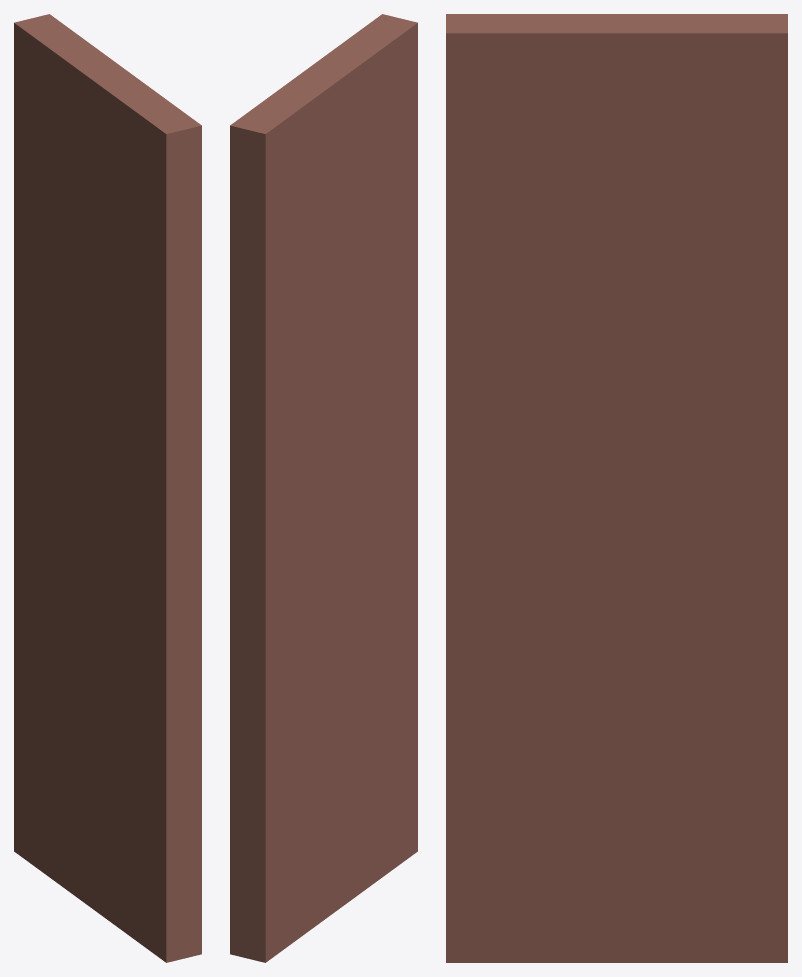
Rendered from T_MurSimple_02.fbx.
The picture shows the model from 3 angles, left to right: view 1: azimuth 30°, elevation 25°; view 2: azimuth 150°, elevation 25°; view 3: azimuth 270°, elevation 25°; orthographic projection. The views are drawn at different scales.
Parts seen in each view (by area): view 1: T_MurSimple_02; view 2: T_MurSimple_02; view 3: T_MurSimple_02.
Boxes of the visible parts, bbox=[...] form: T_MurSimple_02: bbox=[14, 14, 201, 962]; T_MurSimple_02: bbox=[230, 14, 417, 962]; T_MurSimple_02: bbox=[446, 14, 787, 962].
Bounding box in the file's own units: 13.48 × 300 × 100.
